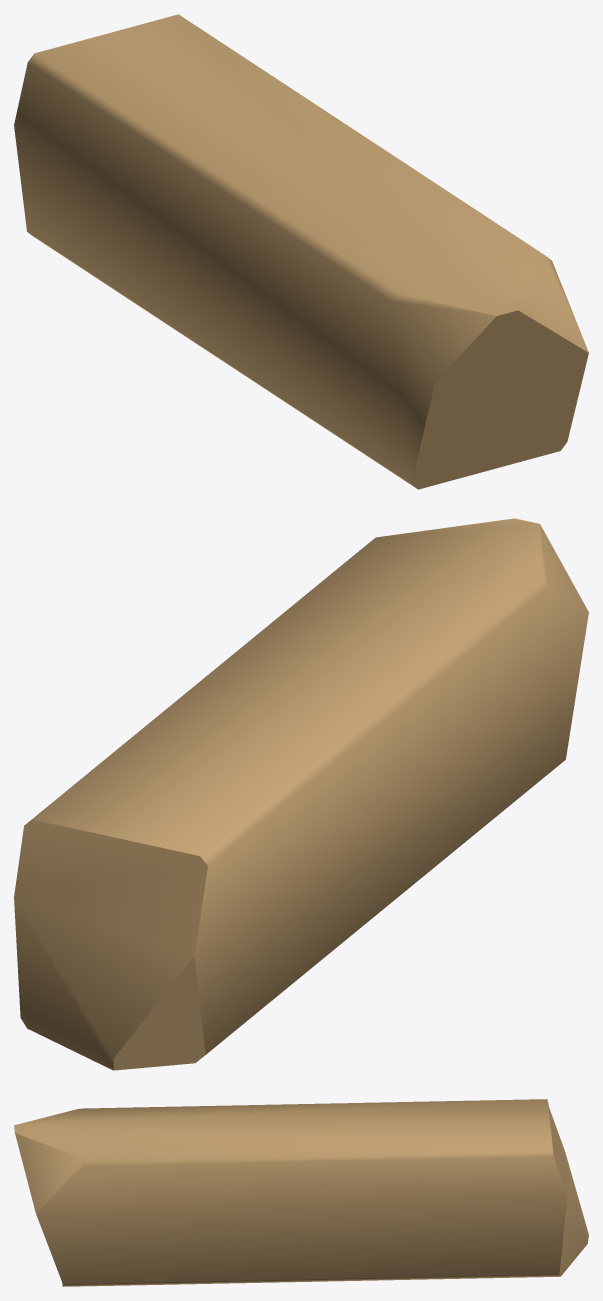
Rendered from BrokenRuin_Big_03.fbx.
3 views of the same model, one above another, from view 1: azimuth 30°, elevation 25°; view 2: azimuth 150°, elevation 25°; view 3: azimuth 270°, elevation 25° (orthographic). The views are drawn at different scales.
Visible parts, largest first — view 1: BigChunk_03; view 2: BigChunk_03; view 3: BigChunk_03.
Boxes of the visible parts, box(x1,y1,x2,y2) form: BigChunk_03: box(14, 14, 588, 489); BigChunk_03: box(14, 518, 588, 1070); BigChunk_03: box(14, 1099, 588, 1286).
Bounding box in the file's own units: 231 × 211 × 858.
